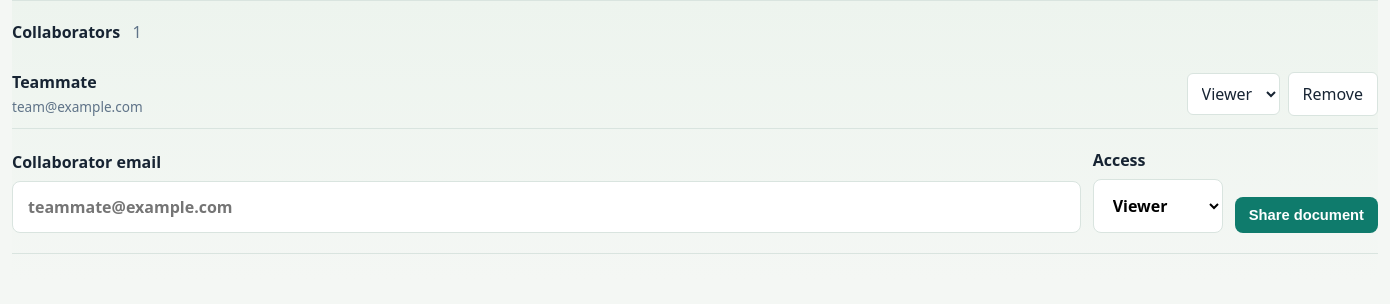
Scenario: changes a collaborator role after successful response
Select "Editor" in the dropdown named "Role for team@example.com" at (1233, 94), box 1186,72 -> 1280,114
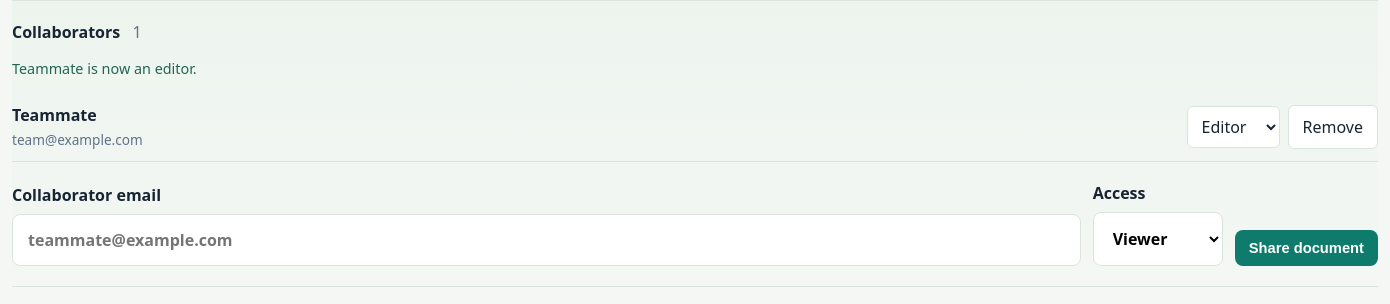
Now the message shows "now an editor", box 12,59 -> 197,78
